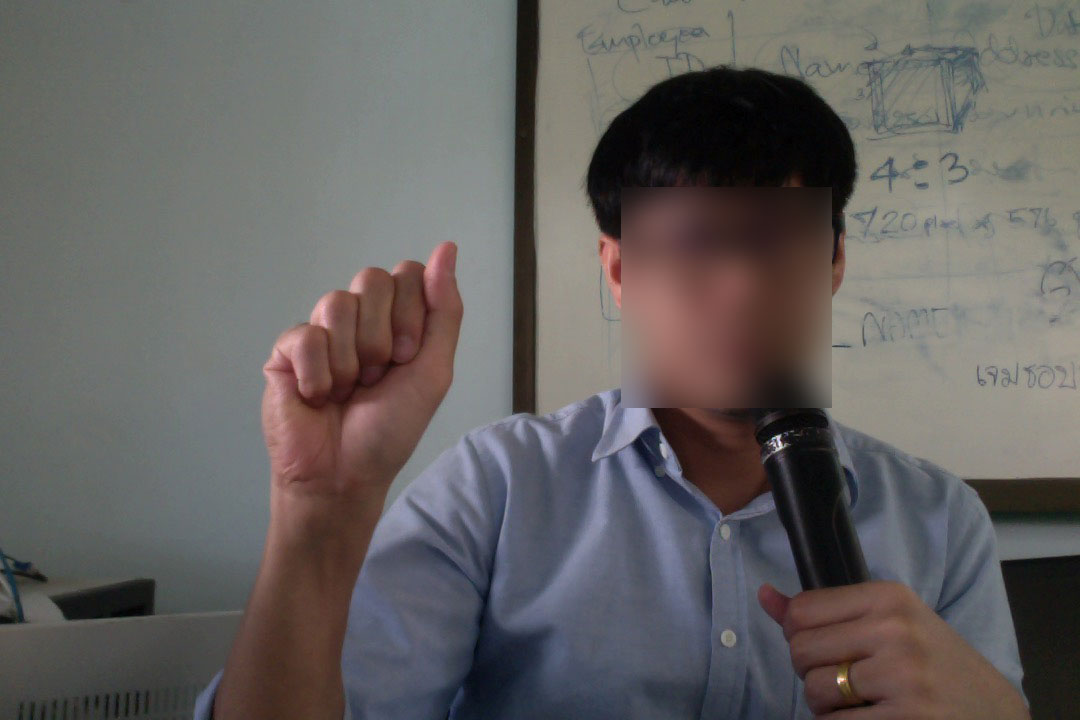or: (246, 234, 482, 509)
